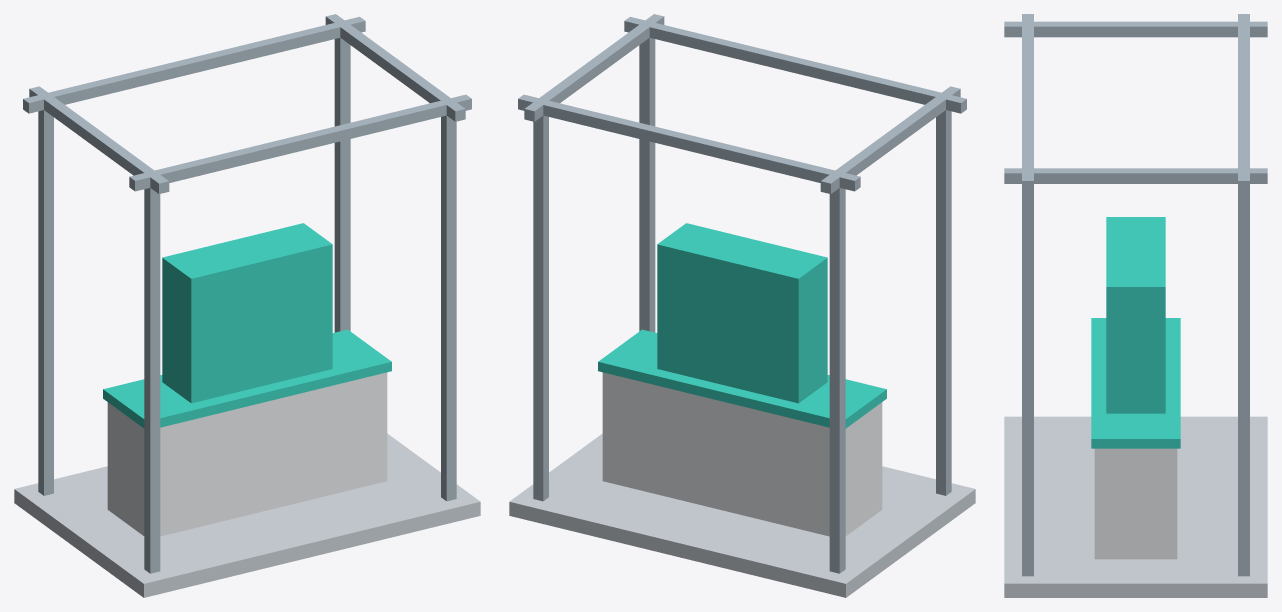
3 views of the same model, side by side, from view 1: azimuth 30°, elevation 25°; view 2: azimuth 150°, elevation 25°; view 3: azimuth 270°, elevation 25° (orthographic).
Visible parts, largest first — view 1: Exhibition Booth Concept; view 2: Exhibition Booth Concept; view 3: Exhibition Booth Concept.
Boxes of the visible parts, box(x1,y1,x2,y2) form: Exhibition Booth Concept: box(14, 14, 480, 597); Exhibition Booth Concept: box(509, 14, 975, 597); Exhibition Booth Concept: box(1004, 14, 1267, 597).
Size of the model in its own units: 3 by 3.49 by 2.
